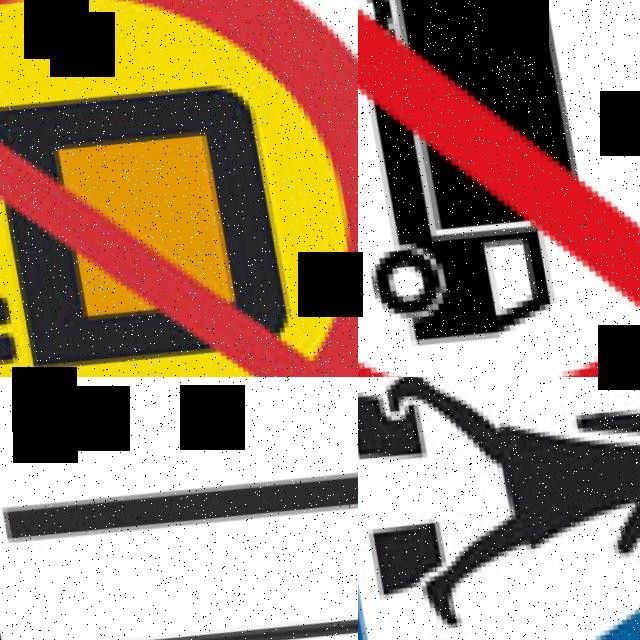42: (0, 0, 358, 377)
66: (0, 377, 358, 640)
No entry for Trucks: (358, 0, 640, 377)
Pedestrian crossing: (358, 377, 640, 640)
